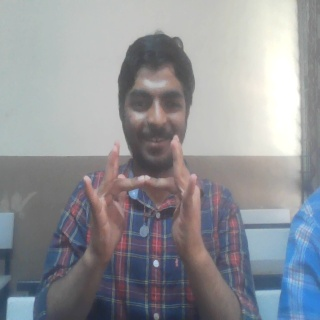Internet: (81, 131, 218, 261)
